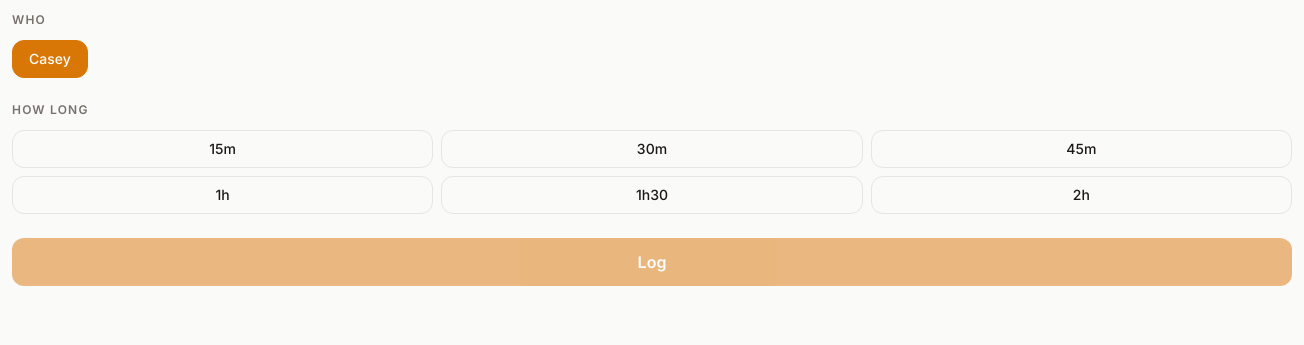
Test: CustomLogForm › shows 'Logged!' after a successful submit
This screenshot has width=1304, height=345.
Click the button "30m".
click(652, 149)  # box [441,130,863,168]
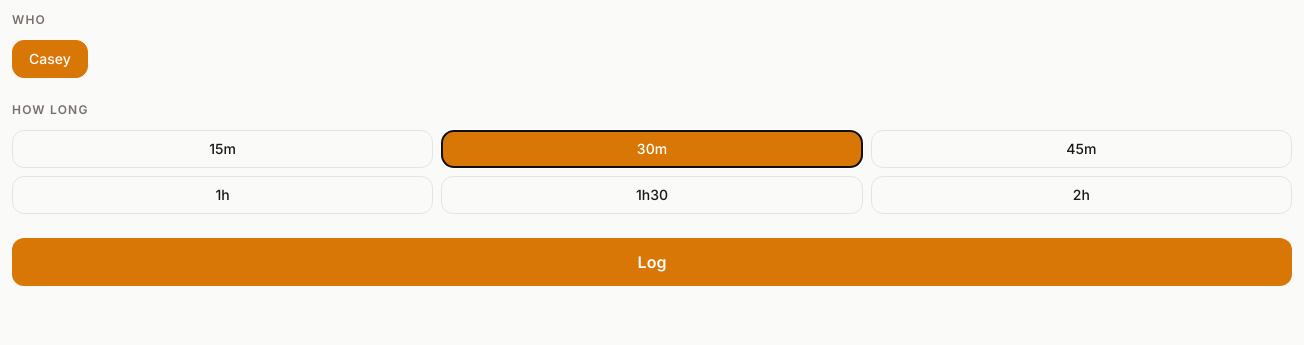
Click the button "Log".
click(652, 262)  # box [12,238,1292,286]
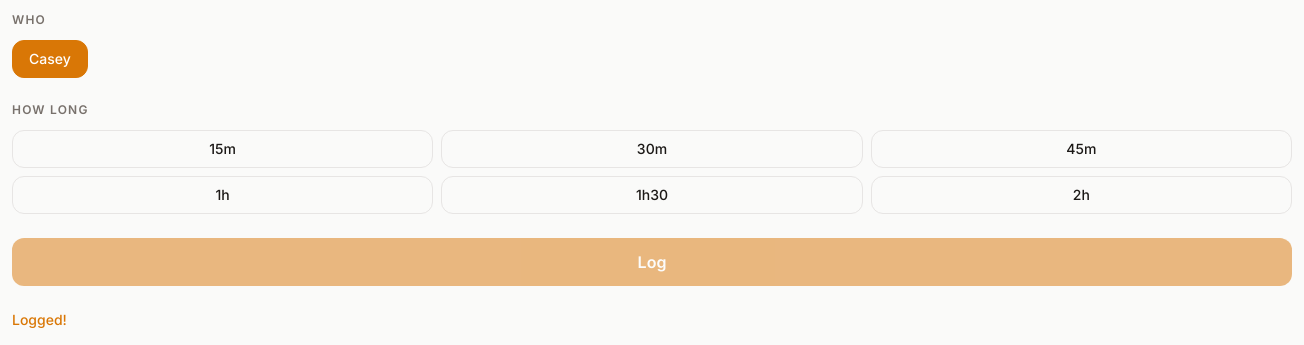
Check: the text "Logged!" is shown, box [12,311,67,328]
